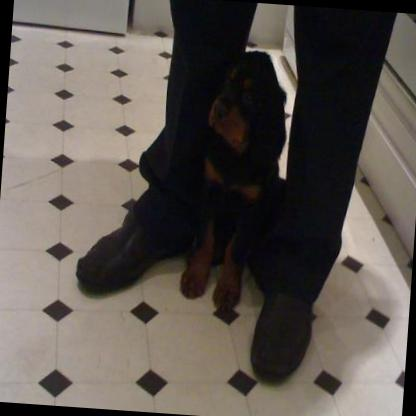Gordon_setter: (178, 47, 292, 316)
